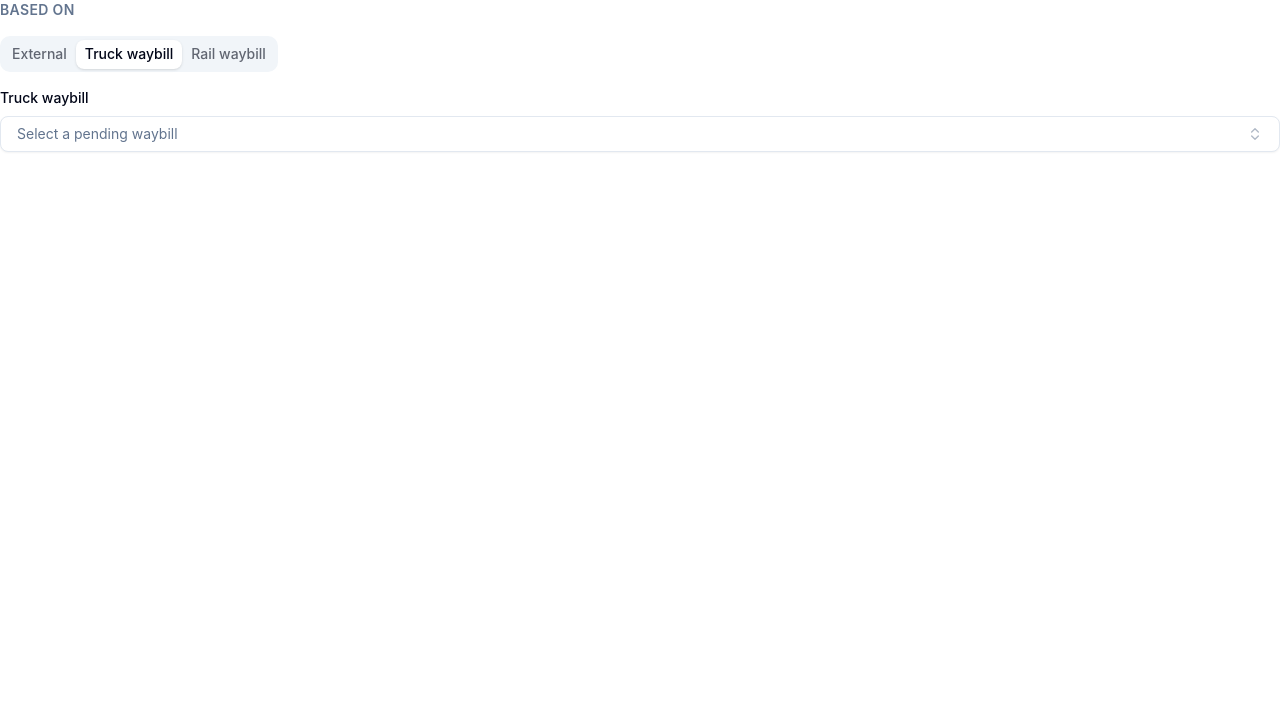
Test: acceptanceBasisSection — waybill picker (truck tab) › lists only PENDING truck waybills
Click the dropdown at {"x": 97, "y": 134}, box [0,116,1279,152]
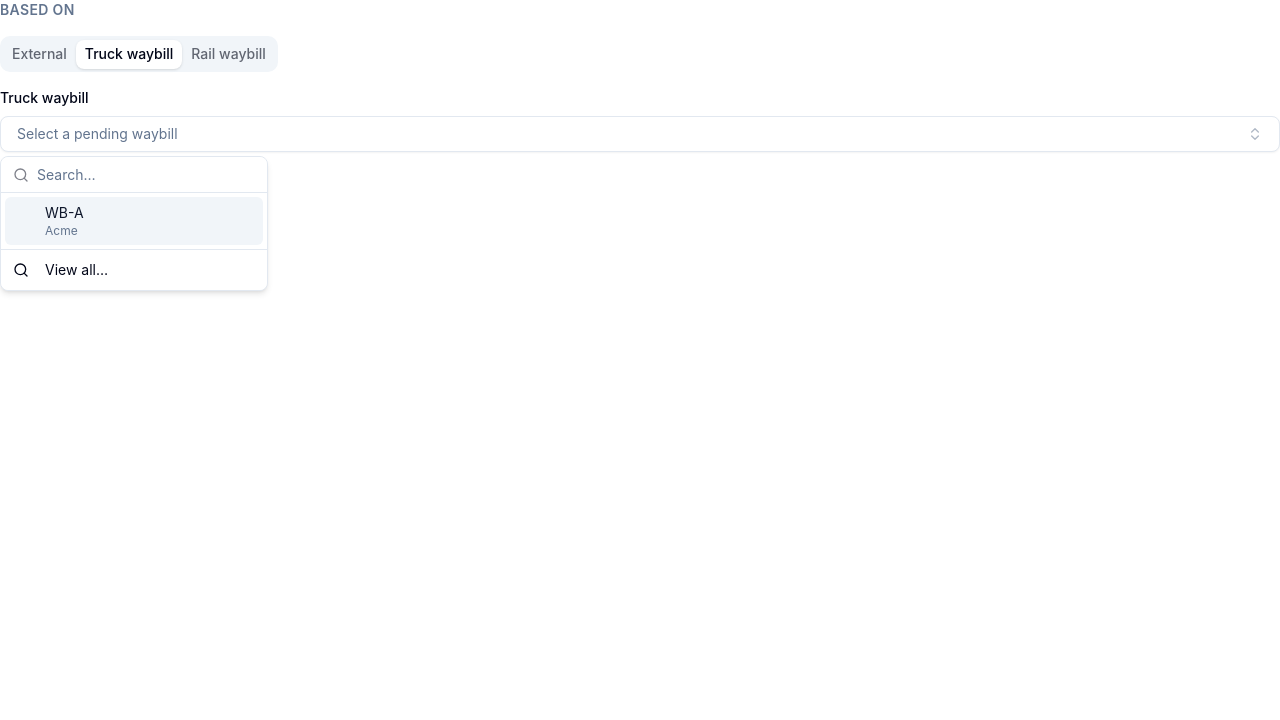
Expected: the option "WB-A Acme" is shown, [5,197,263,245]
